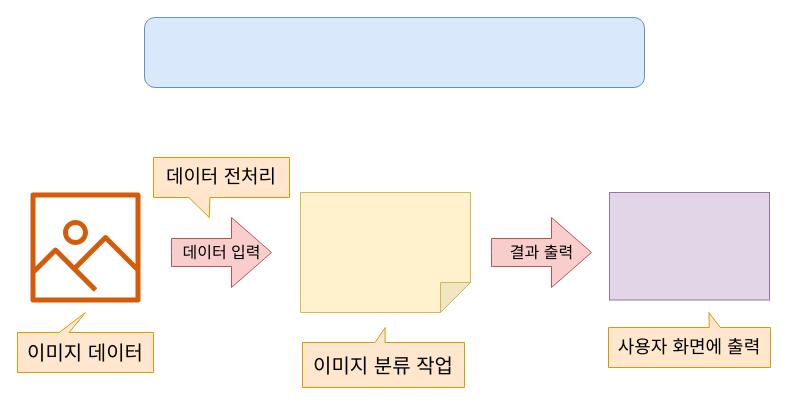
The diagram is 788 pixels wide and 405 high, and some of its shapes have lost their labels. Each missing label, with the centre of its shape:
"Image Classification System" goes at point 394,52.
"이미지 분류 결과 포지션 출력 (FW, MF, DF, GK)" goes at point 689,246.
"이미지 분류 모델 (CNN)" goes at point 385,252.
